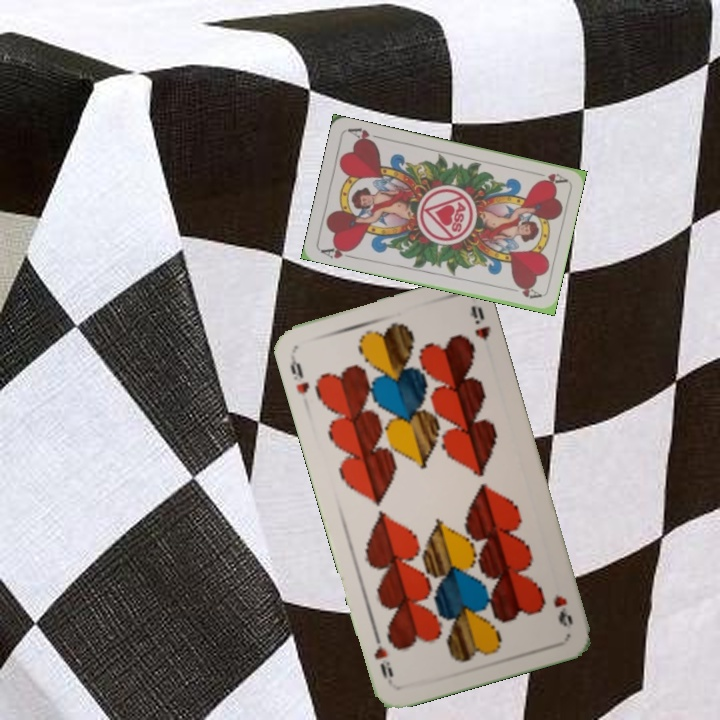H9: (286, 351, 312, 397), (549, 590, 576, 629)
HA: (528, 167, 568, 188), (317, 241, 358, 261)
